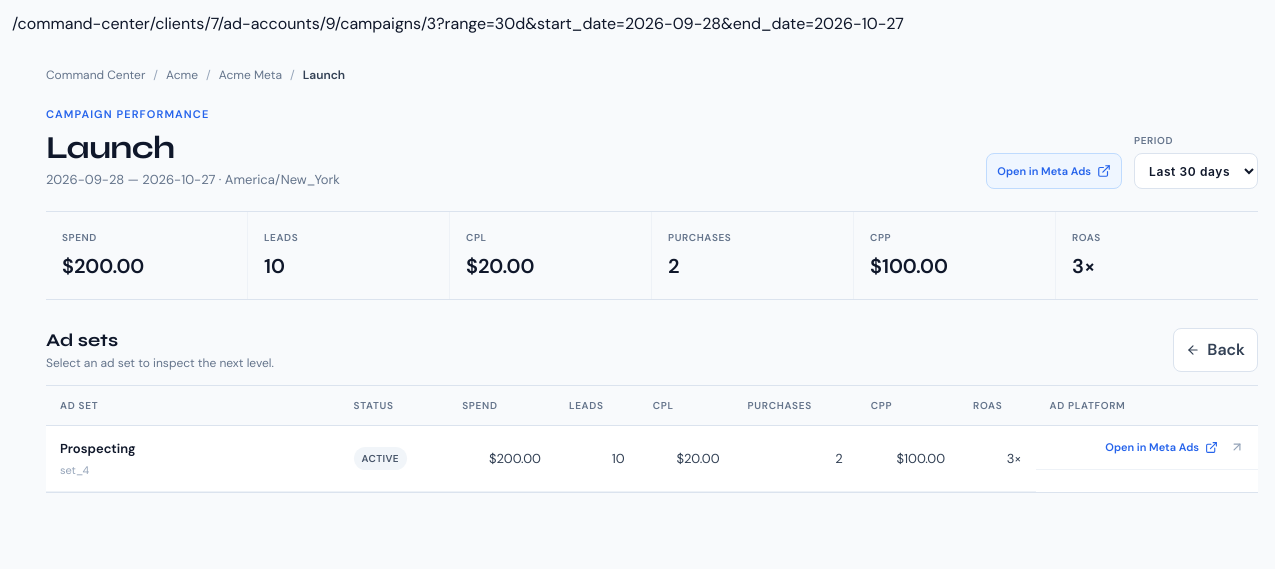
Test: performance drilldown › gives ad groups and individual ads canonical URLs
Click the text "Prospecting" at (98, 449), box [60,440,136,457]
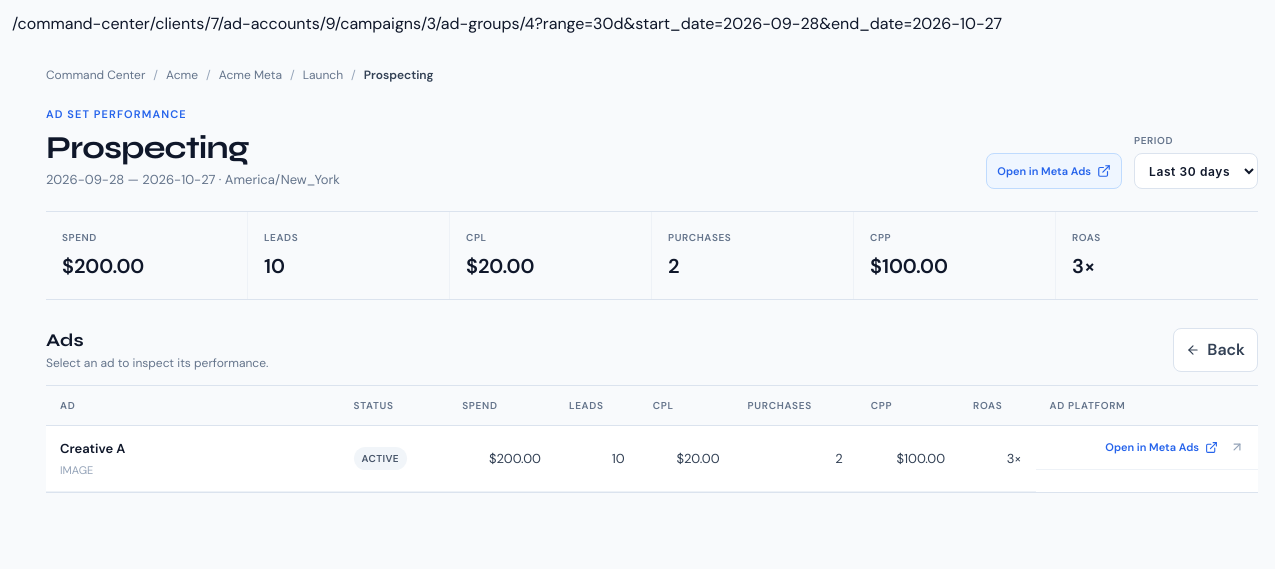
Now the heading "Ads" is shown, box [46,329,84,351]
Now the text with test id "location" shows "/command-center/clients/7/ad-accounts/9/campaigns/3/ad-groups/4?range=30d&start_date=2026-09-28&end_date=2026-10-27", box [12,13,1002,34]
Click the text "Creative A" at (93, 449), box [60,440,125,457]
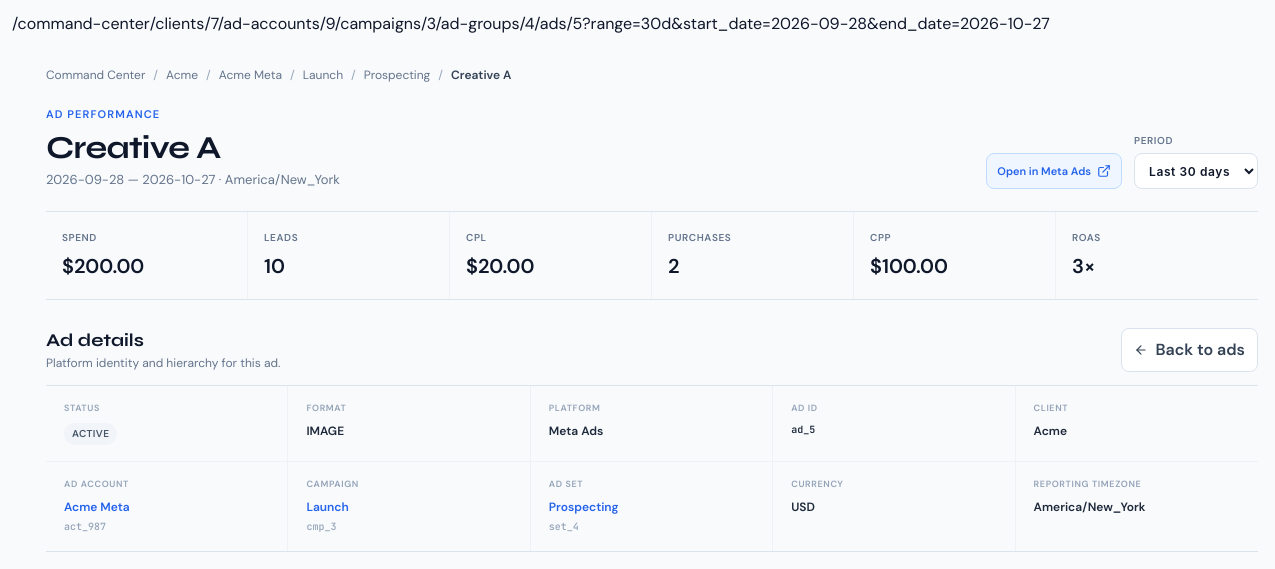
Now the text "IMAGE" is shown, box [306,423,344,439]
Now the heading "Ad details" is shown, box [46,329,144,351]
Now the heading "Creative A" is shown, box [46,128,220,166]
